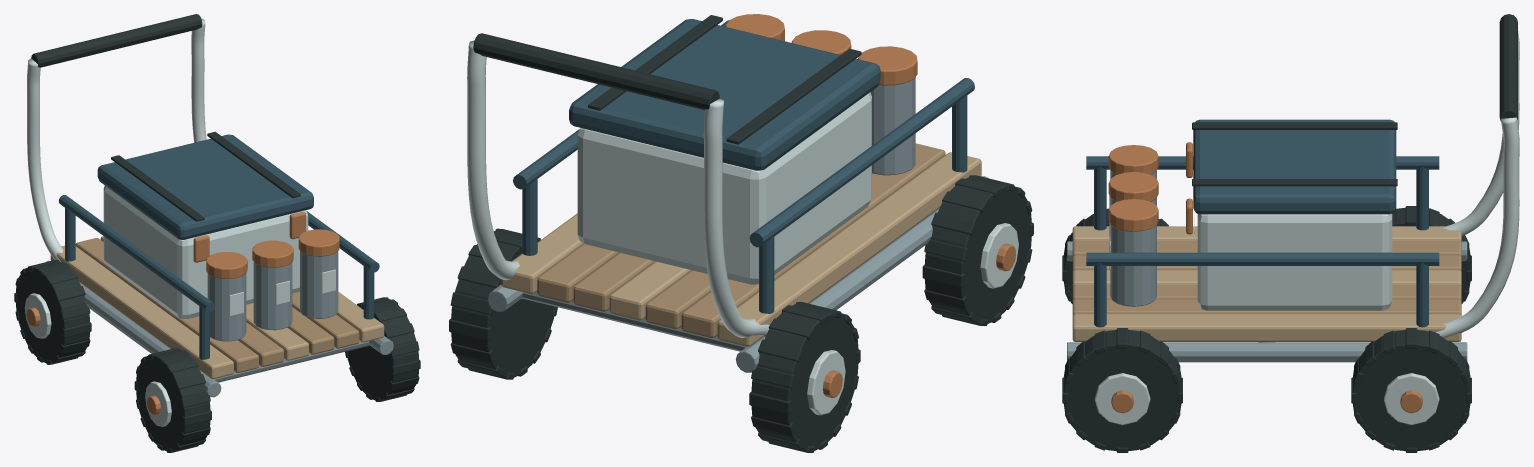
The model's file is field_cart.glb.
The picture shows the model from 3 angles, left to right: view 1: azimuth 30°, elevation 25°; view 2: azimuth 150°, elevation 25°; view 3: azimuth 270°, elevation 25°; orthographic projection. The views are drawn at different scales.
Visible parts, largest first — view 1: Case lid, Waterproof specimen case, Replaceable timber deck, Rubber wheel, Rubber wheel.001, Rubber wheel.002, Handle crossbar, Continuous push handle, Sampling canister.001, Sampling canister.002, Raised side rail, Sampling canister (+21 smaller); view 2: Waterproof specimen case, Case lid, Replaceable timber deck, Rubber wheel.001, Rubber wheel, Rubber wheel.003, Handle crossbar, Continuous push handle, Continuous push handle.001, Raised side rail, Replaceable timber deck.001, Longitudinal chassis (+28 smaller); view 3: Case lid, Waterproof specimen case, Replaceable timber deck.006, Rubber wheel.002, Rubber wheel.003, Raised side rail.001, Longitudinal chassis.001, Continuous push handle.001, Replaceable timber deck.005, Sampling canister.002, Replaceable timber deck, Handle crossbar (+19 smaller).
Part boxes in pixels (x1,y1,x2,y2): Case lid: (97,134,313,239); Waterproof specimen case: (103,185,308,319); Replaceable timber deck: (50,245,233,379); Rubber wheel: (136,349,210,451); Rubber wheel.001: (16,261,90,363); Rubber wheel.002: (347,298,419,400); Handle crossbar: (31,14,202,67); Continuous push handle: (27,58,63,261); Sampling canister.001: (253,262,292,330); Sampling canister.002: (300,251,338,318); Raised side rail: (58,195,215,312); Sampling canister: (207,273,246,341); Waterproof specimen case: (577,92,871,284); Case lid: (569,19,880,170); Replaceable timber deck: (717,152,981,346); Rubber wheel.001: (751,303,858,451); Rubber wheel: (924,177,1031,324); Rubber wheel.003: (451,230,554,377); Handle crossbar: (473,33,719,109); Continuous push handle: (703,98,769,337); Continuous push handle.001: (467,40,519,280); Raised side rail: (749,78,974,247); Replaceable timber deck.001: (681,143,945,337); Longitudinal chassis: (736,176,988,372); Case lid: (1193,119,1396,214); Waterproof specimen case: (1197,214,1392,310); Replaceable timber deck.006: (1072,314,1461,341); Rubber wheel.002: (1063,330,1181,450); Rubber wheel.003: (1352,330,1470,450); Raised side rail.001: (1086,252,1439,265); Longitudinal chassis.001: (1067,342,1467,362); Continuous push handle.001: (1436,117,1519,337); Replaceable timber deck.005: (1072,299,1461,315); Sampling canister.002: (1110,224,1156,306); Replaceable timber deck: (1072,226,1461,242); Handle crossbar: (1499,14,1517,120).
Bounding box in the file's own units: 1.26 × 1.28 × 1.65.
